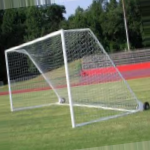goals: (4, 27, 140, 125)
